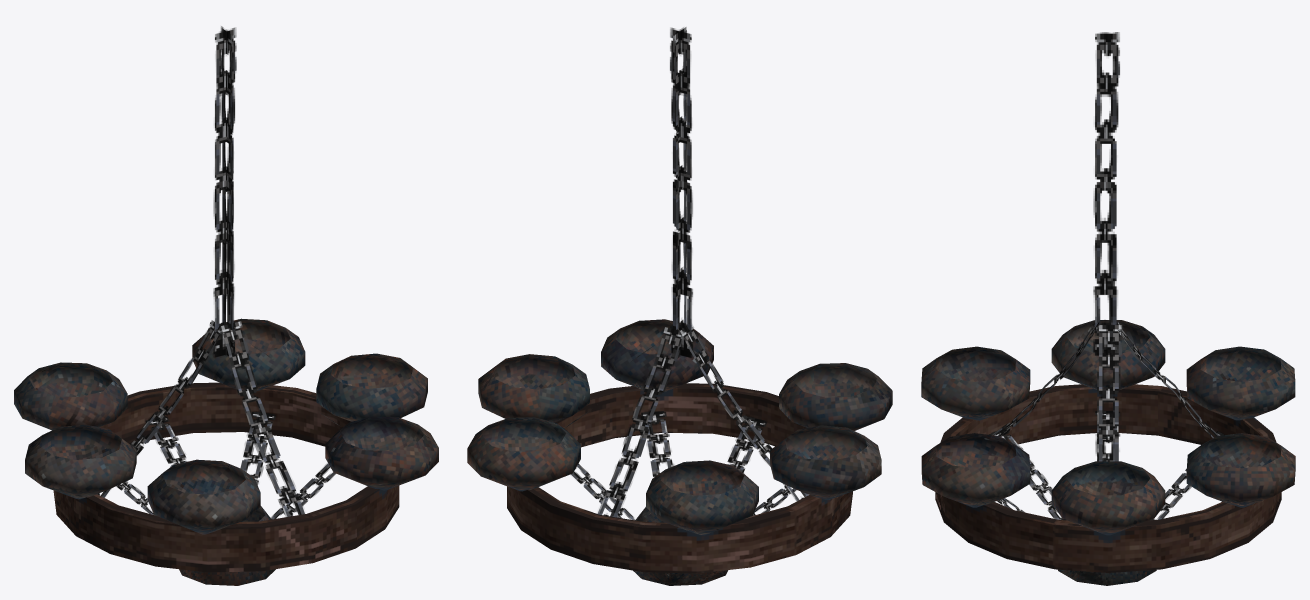
The model's file is Candelabra.glb.
3 views of the same model, side by side, from view 1: azimuth 30°, elevation 25°; view 2: azimuth 150°, elevation 25°; view 3: azimuth 270°, elevation 25° (orthographic).
Parts seen in each view (by area): view 1: pCylinder1, polySurface8, polySurface11, polySurface4, polySurface2, polySurface6, polySurface10, chainplane5_geo, chainplane1_geo, chainplane6_geo, chainplane4_geo, polySurface9 (+3 smaller); view 2: pCylinder1, polySurface10, polySurface2, polySurface4, polySurface11, polySurface6, polySurface8, chainplane5_geo, chainplane2_geo, chainplane6_geo, chainplane4_geo, polySurface9 (+3 smaller); view 3: pCylinder1, polySurface6, polySurface10, polySurface8, polySurface11, polySurface2, chainplane6_geo, polySurface4, chainplane3_geo, polySurface9, chainplane1_geo, chainplane2_geo (+2 smaller).
Part boxes in pixels (x1,y1,x2,y2): pCylinder1: (53, 382, 399, 572); polySurface8: (325, 416, 438, 490); polySurface11: (147, 459, 260, 534); polySurface4: (25, 424, 136, 499); polySurface2: (14, 362, 127, 430); polySurface6: (316, 353, 427, 421); polySurface10: (192, 318, 305, 391); chainplane5_geo: (213, 27, 236, 357); chainplane1_geo: (220, 320, 304, 516); chainplane6_geo: (220, 26, 233, 356); chainplane4_geo: (97, 320, 222, 497); polySurface9: (179, 506, 275, 585); pCylinder1: (507, 383, 852, 573); polySurface10: (467, 417, 580, 491); polySurface2: (646, 460, 758, 535); polySurface4: (770, 425, 881, 499); polySurface11: (779, 363, 892, 430); polySurface6: (478, 354, 589, 422); polySurface8: (601, 319, 713, 392); chainplane5_geo: (670, 28, 692, 357); chainplane2_geo: (597, 327, 684, 517); chainplane6_geo: (674, 27, 687, 358); chainplane4_geo: (679, 323, 808, 501); polySurface9: (633, 507, 728, 585); pCylinder1: (935, 384, 1281, 572); polySurface6: (1051, 461, 1165, 535); polySurface10: (1186, 433, 1295, 507); polySurface8: (921, 433, 1030, 507); polySurface11: (921, 346, 1030, 420); polySurface2: (1186, 346, 1295, 420); chainplane6_geo: (1093, 32, 1119, 355); polySurface4: (1051, 320, 1165, 390); chainplane3_geo: (1095, 323, 1122, 461); polySurface9: (1058, 518, 1156, 585); chainplane1_geo: (992, 321, 1099, 436); chainplane2_geo: (1117, 322, 1219, 438).
Size of the model in its own units: 0.8891 by 1.21 by 0.7512.
Materials: 22 (22 with a texture image).
